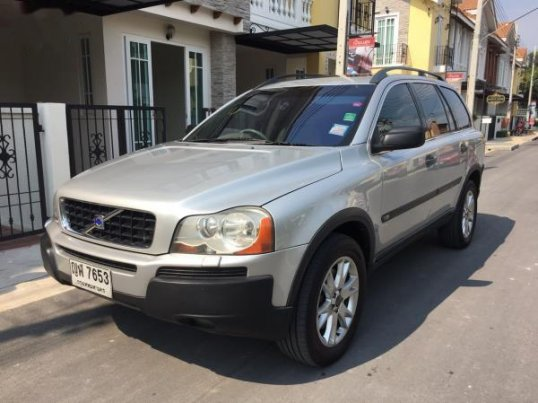pickup: (40, 63, 487, 370)
